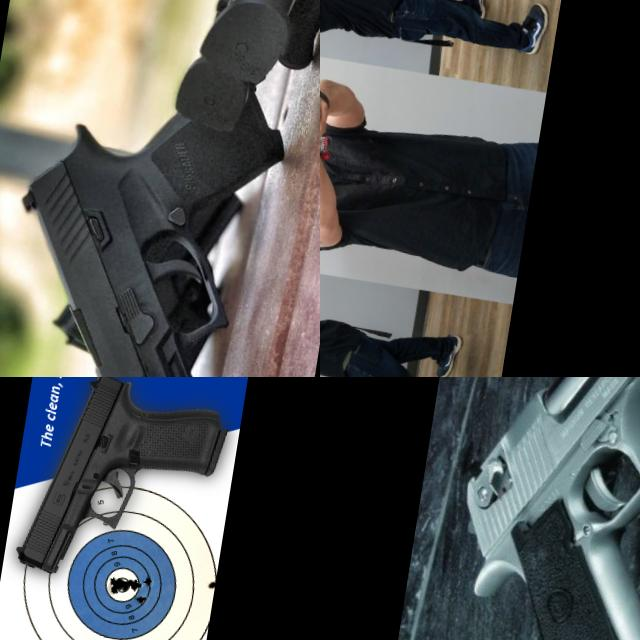handgun: (0, 60, 297, 377), (421, 377, 640, 640), (9, 377, 236, 599), (320, 72, 344, 134), (320, 0, 332, 23)
